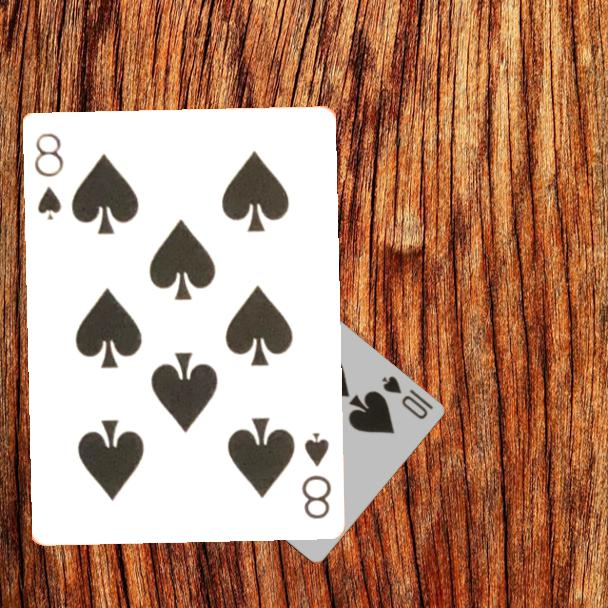s08: (297, 428, 334, 521), (30, 129, 66, 222)
s10: (378, 372, 436, 422)
